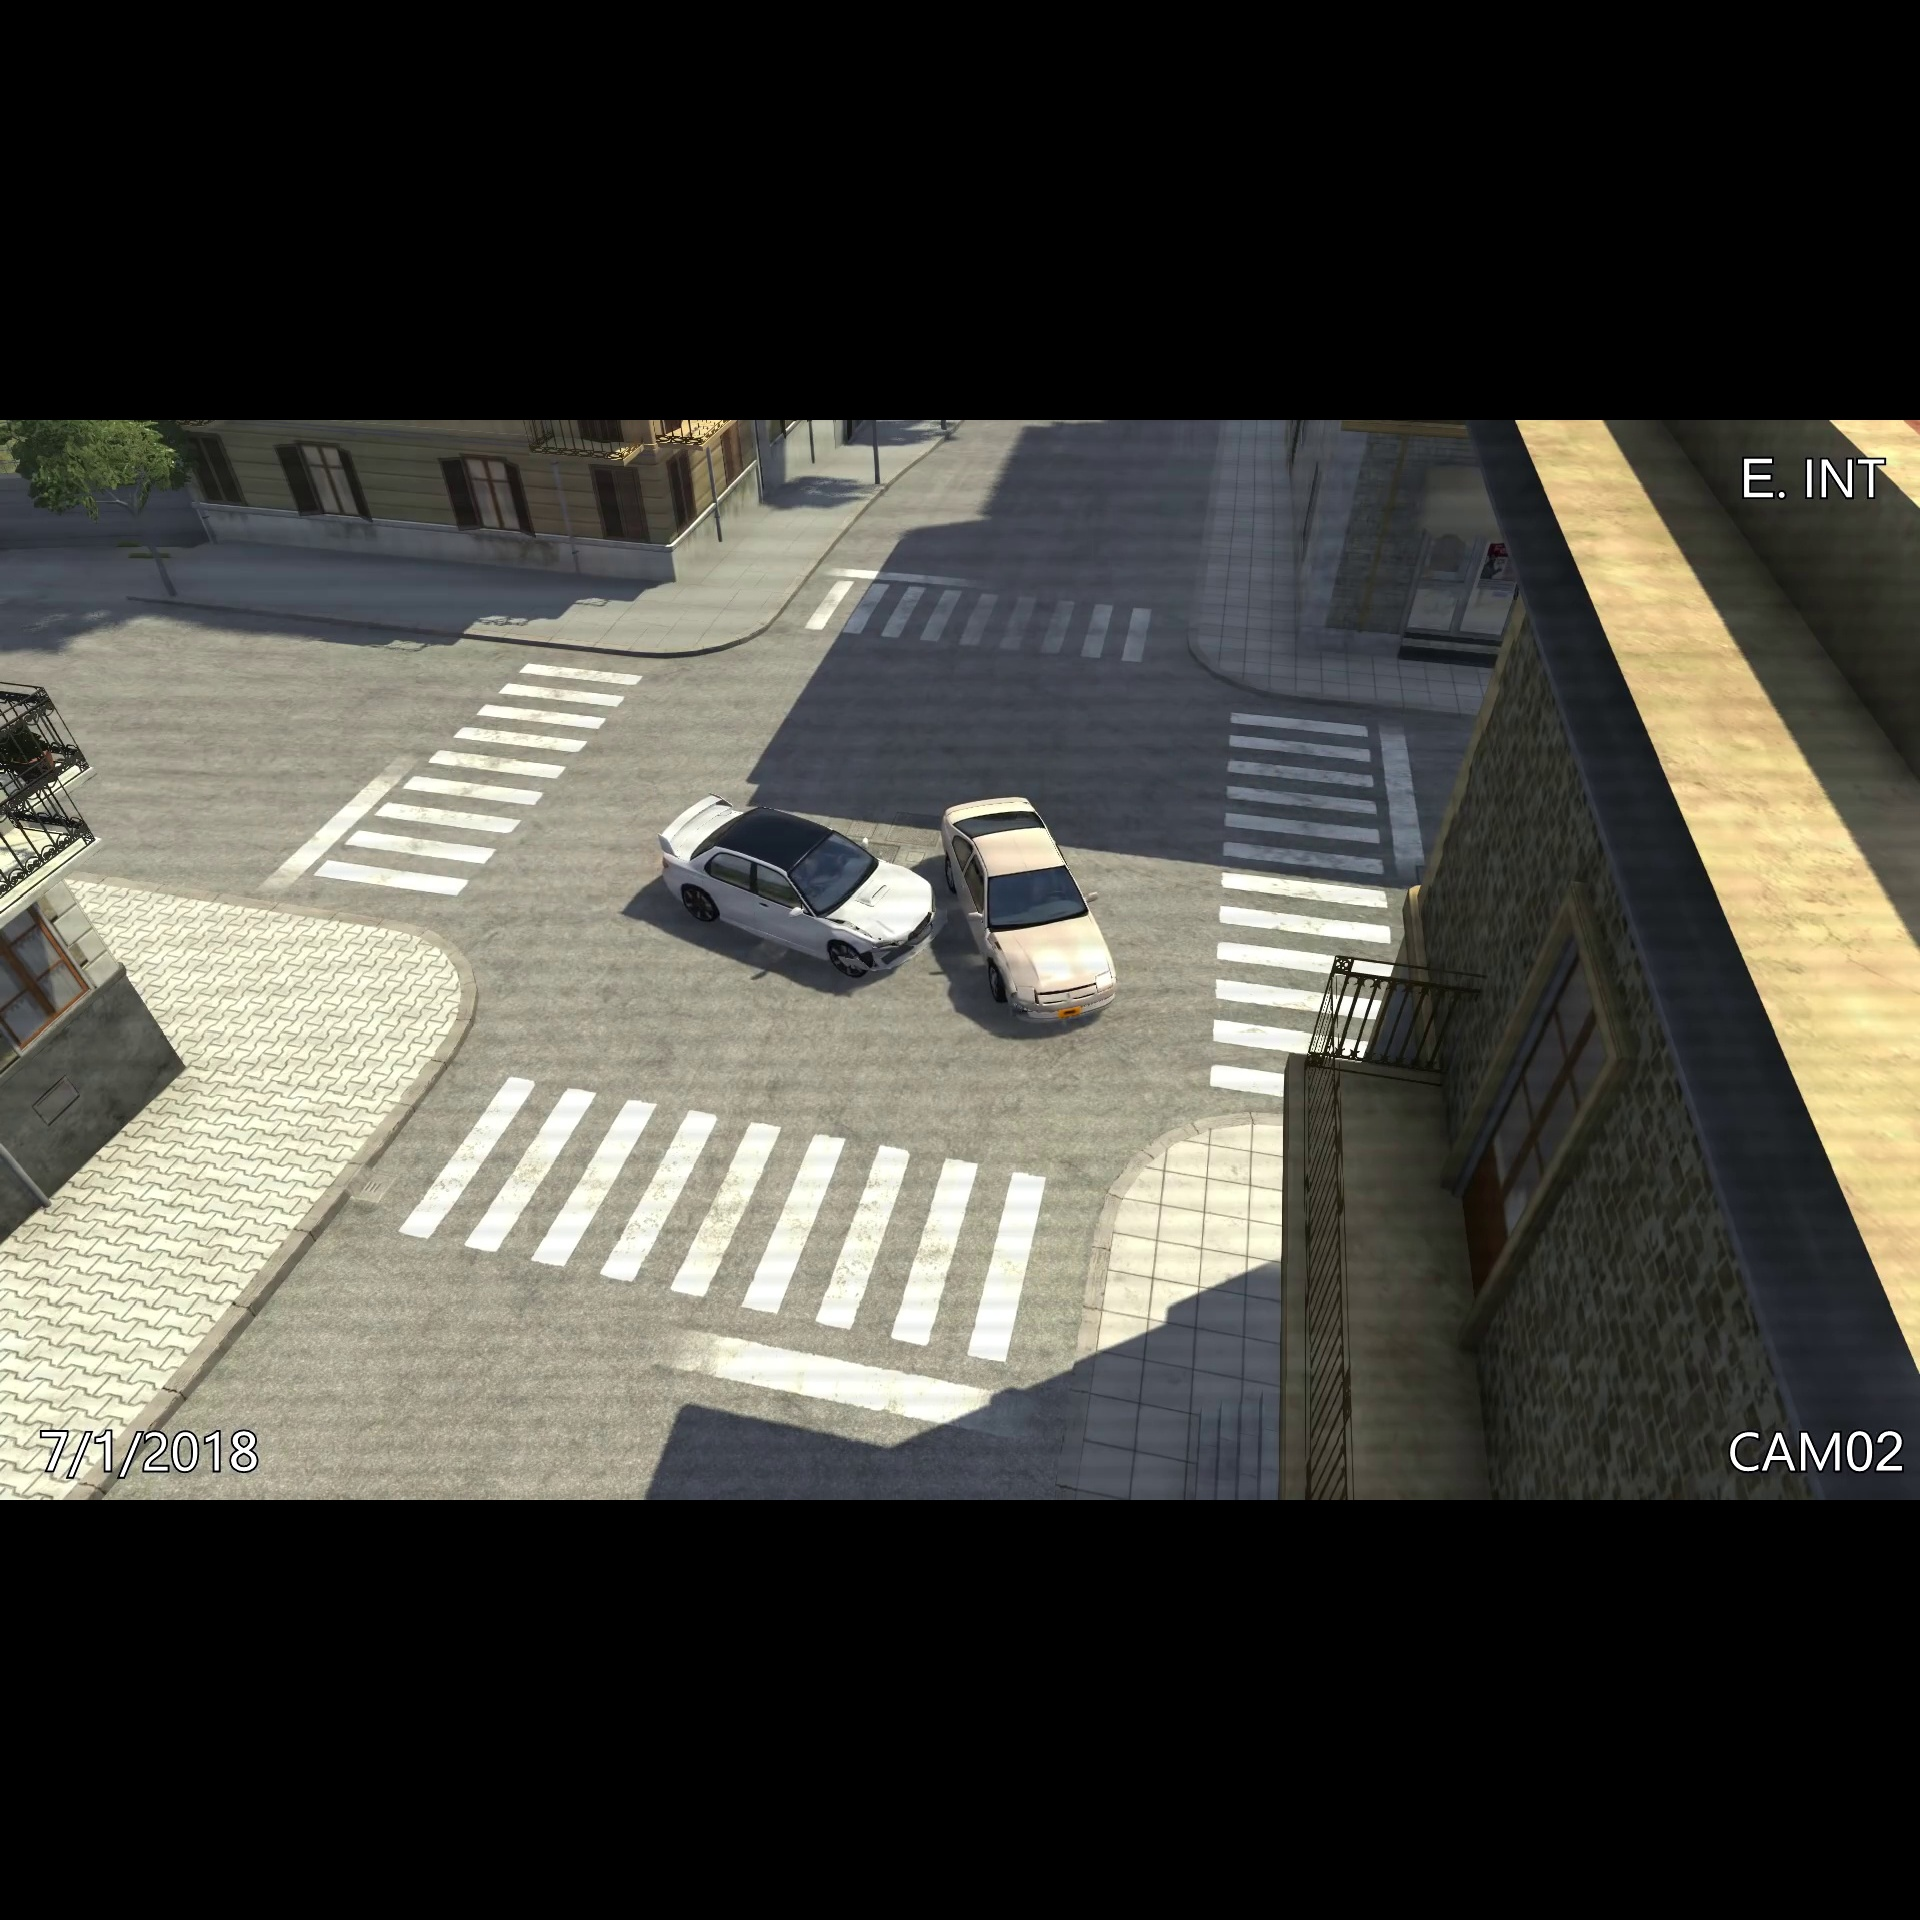vehicle: (652, 788, 942, 979), (934, 788, 1127, 1037)
